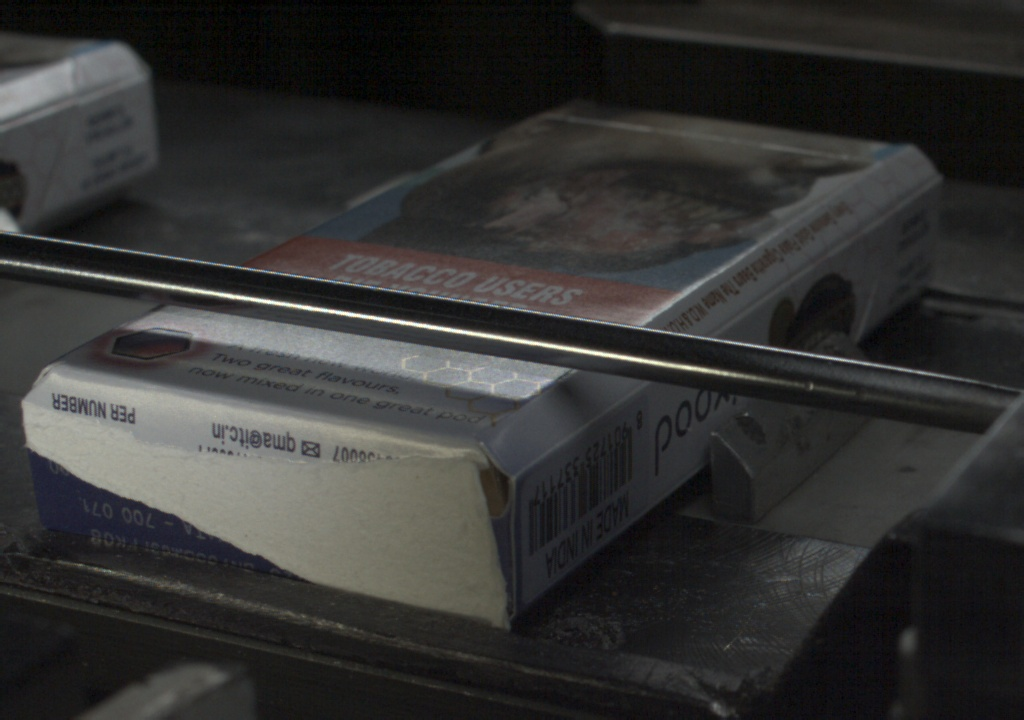g_lmiter: (798, 209, 893, 270), (710, 270, 798, 335), (577, 382, 640, 428), (516, 428, 577, 470)
g_miter: (893, 172, 944, 208)
ng_bottom: (334, 461, 509, 622), (23, 395, 174, 558), (168, 429, 337, 573)
ng_label: (37, 488, 289, 577)
